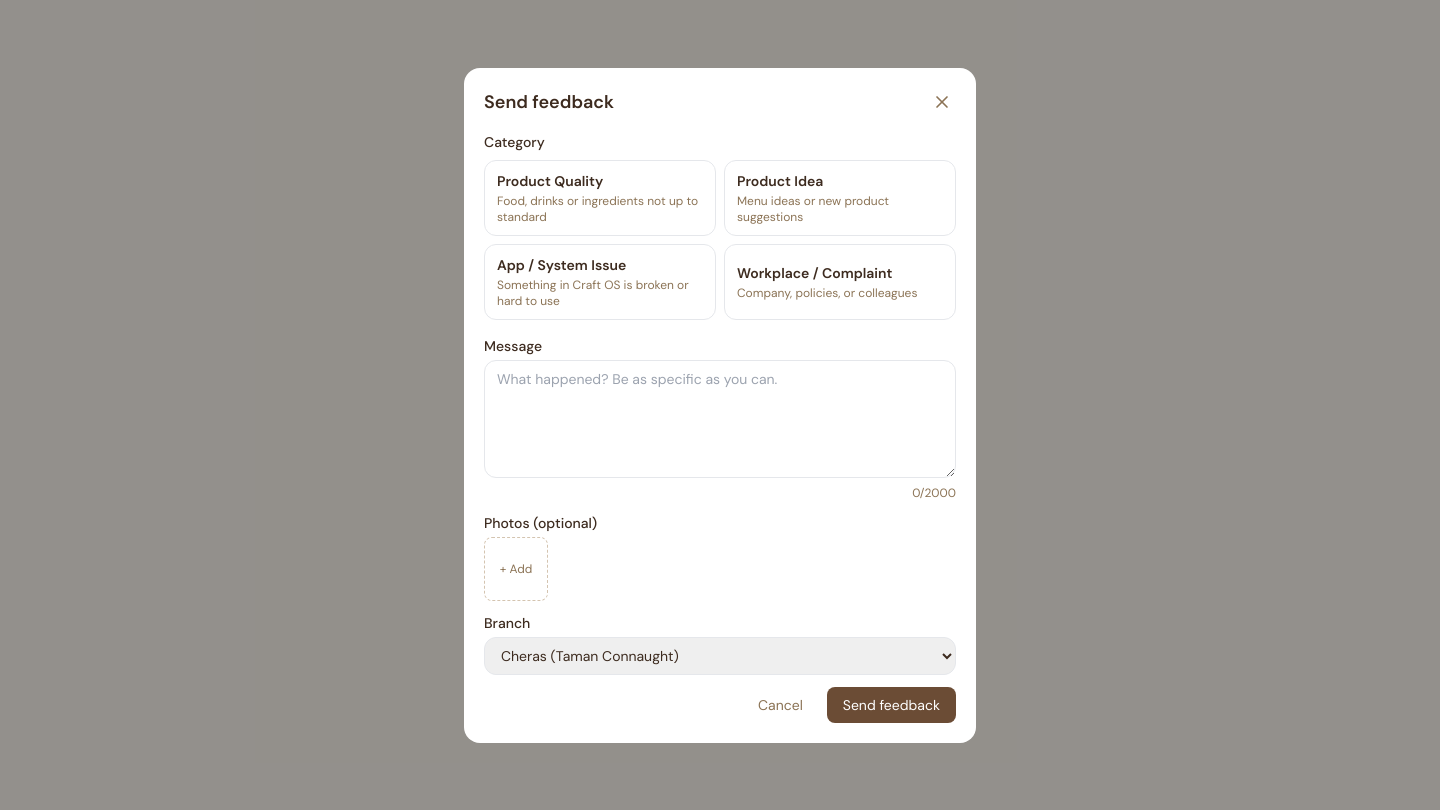
Test: FeedbackSheet › 匿名开关只在选了 Workplace 后出现
Expected: the field labelled "Submit anonymously" is not shown
Click the button "Product Quality".
click(600, 198)  # box [484,160,716,236]
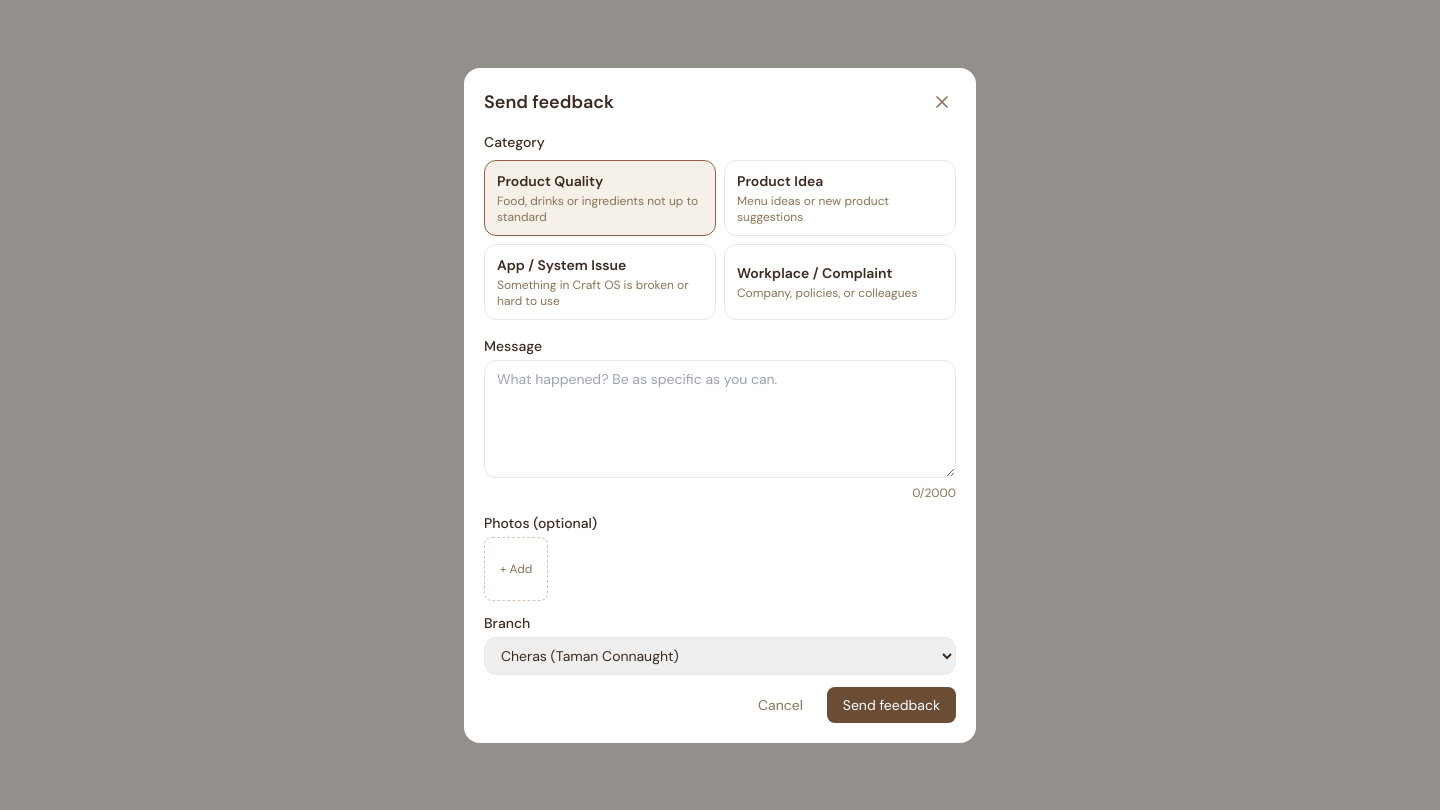
Expected: the field labelled "Submit anonymously" is not shown
Click the button "Workplace / Complaint Company, policies, or colleagues".
click(840, 282)  # box [724,244,956,320]
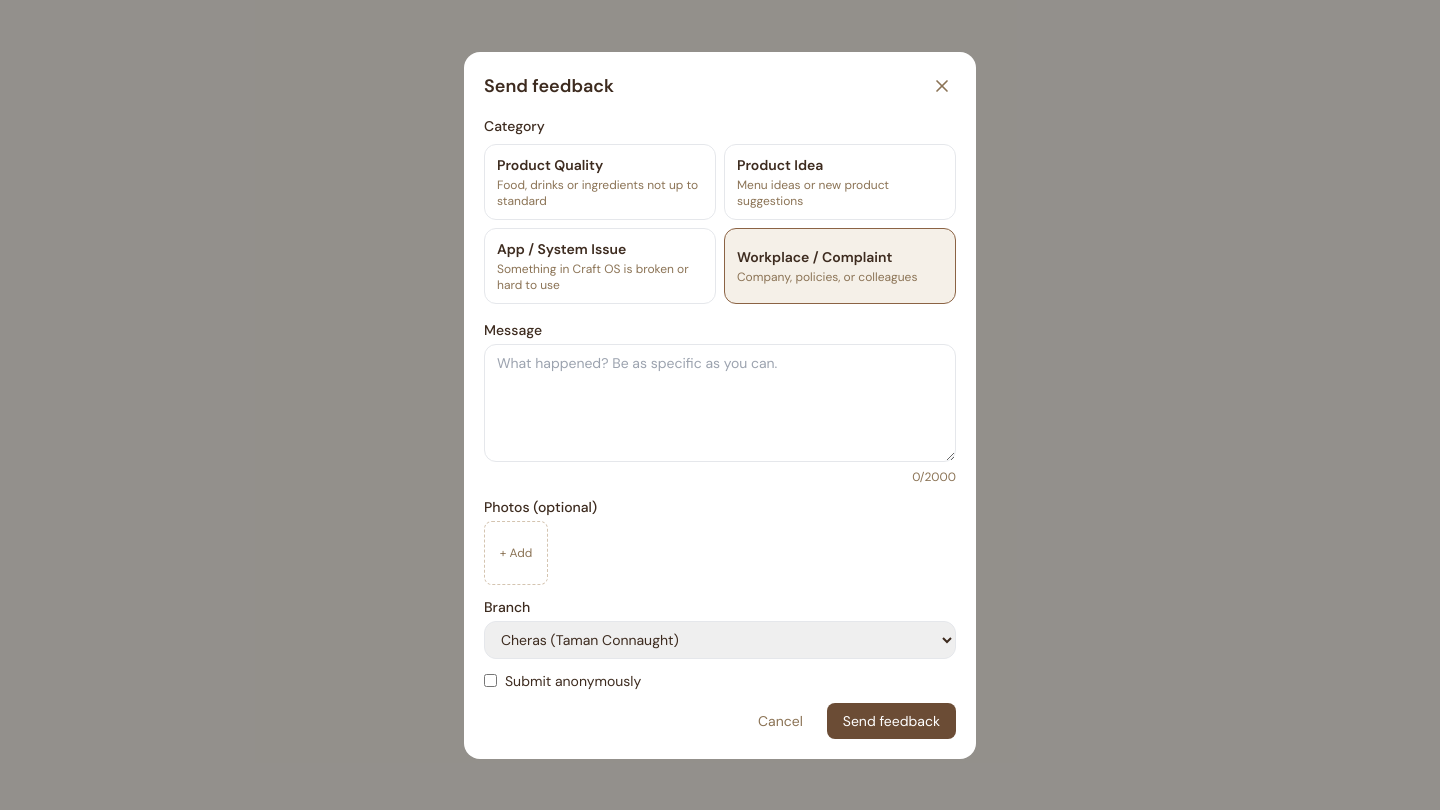
Expected: the checkbox labelled "Submit anonymously" is shown, [484,674,497,687]
